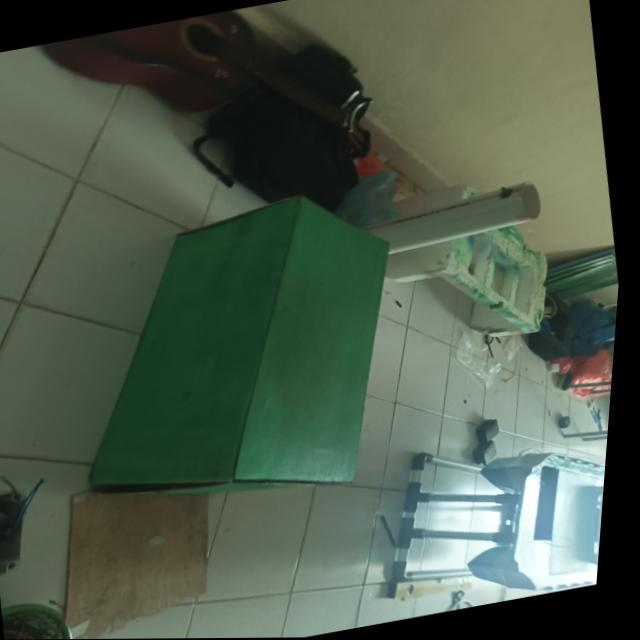green_box: (16, 168, 476, 543)
